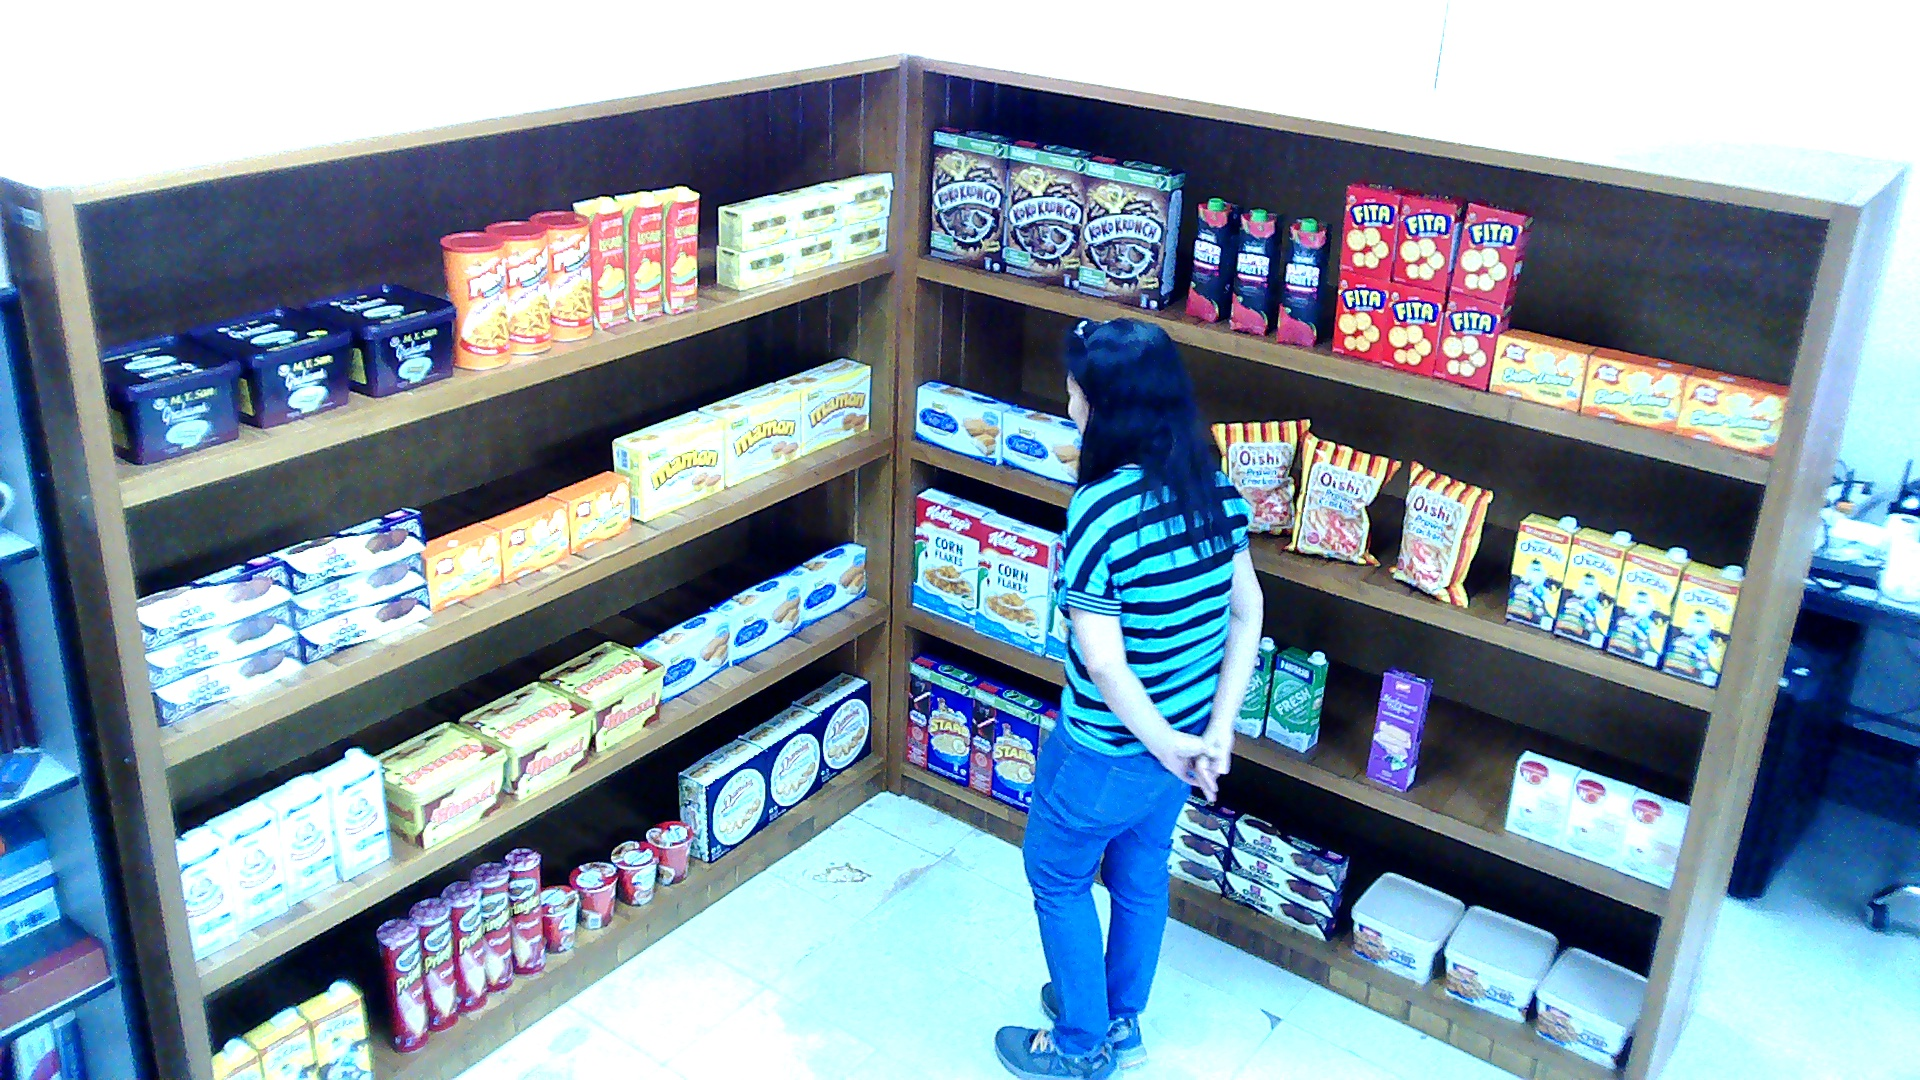Bear brand: (204, 796, 288, 933), (312, 747, 390, 882), (258, 773, 336, 906), (173, 825, 236, 960)
Buttercake: (633, 610, 729, 704), (708, 572, 804, 666), (915, 378, 1017, 464), (786, 540, 864, 626), (1002, 405, 1080, 486)
Butterlicious: (1674, 365, 1788, 457), (1581, 346, 1692, 432), (1488, 326, 1596, 412), (479, 495, 566, 585), (420, 522, 501, 612), (548, 470, 629, 553)
Camomille: (717, 193, 795, 252), (714, 240, 792, 289), (822, 171, 891, 225), (774, 184, 840, 236), (791, 227, 842, 272), (846, 218, 888, 261)
Choco Crunchies: (135, 553, 291, 650), (144, 601, 297, 691), (270, 506, 423, 594), (153, 639, 303, 727), (291, 554, 423, 630), (300, 585, 429, 661), (1233, 812, 1347, 891), (1224, 871, 1338, 943), (1230, 846, 1344, 918), (1173, 792, 1239, 846), (1167, 825, 1230, 872), (1166, 850, 1223, 895)
Chocolate Chips: (1533, 947, 1647, 1071), (1442, 904, 1559, 1021), (1350, 873, 1464, 983)
Chuckie: (1605, 542, 1692, 668), (1662, 560, 1743, 686), (1554, 526, 1635, 648), (1503, 511, 1581, 633), (297, 980, 372, 1077), (239, 1008, 314, 1078), (209, 1040, 260, 1080)
Danisa: (678, 738, 768, 862), (738, 704, 819, 821), (792, 670, 870, 783)
Fita: (1449, 198, 1536, 301), (1434, 292, 1512, 389), (1391, 188, 1466, 287), (1337, 179, 1412, 276), (1380, 282, 1446, 376), (1332, 270, 1389, 360)
Fresh Milk: (1263, 643, 1326, 751), (1233, 636, 1275, 737)
Grahams: (186, 306, 351, 430), (99, 328, 237, 465), (297, 281, 453, 396)
Hansel: (375, 720, 507, 850), (456, 681, 594, 800), (539, 638, 662, 755)
Head: (1050, 304, 1215, 486)
Honey Stars: (965, 675, 1052, 815), (902, 652, 983, 785)
Kellogg Corn Flakes: (972, 513, 1062, 655), (912, 486, 996, 628)
Kimchi Noodles: (567, 862, 615, 930), (645, 819, 693, 884), (609, 839, 657, 904), (540, 884, 576, 954)
Koko Krunch: (1077, 153, 1185, 308), (1002, 137, 1095, 288), (929, 126, 1016, 272)
Locally Mango: (570, 195, 627, 328), (615, 191, 663, 321), (651, 185, 699, 315)
Mamon: (611, 409, 722, 522), (696, 380, 798, 486), (774, 357, 870, 454)
Oishi Prawn: (1277, 429, 1400, 564), (1388, 459, 1493, 607), (1212, 416, 1308, 535)
Pik-nik: (438, 231, 510, 368), (483, 220, 549, 353), (527, 210, 590, 340)
Pringles: (375, 918, 426, 1053), (408, 897, 456, 1030), (440, 879, 485, 1014), (500, 846, 545, 976), (468, 862, 510, 992)
Super Fruits: (1274, 216, 1331, 344), (1184, 196, 1241, 322), (1230, 207, 1284, 335)
Wafer: (1365, 666, 1431, 792)
iHop: (1560, 767, 1638, 868), (1505, 749, 1580, 848), (1617, 787, 1689, 888)
